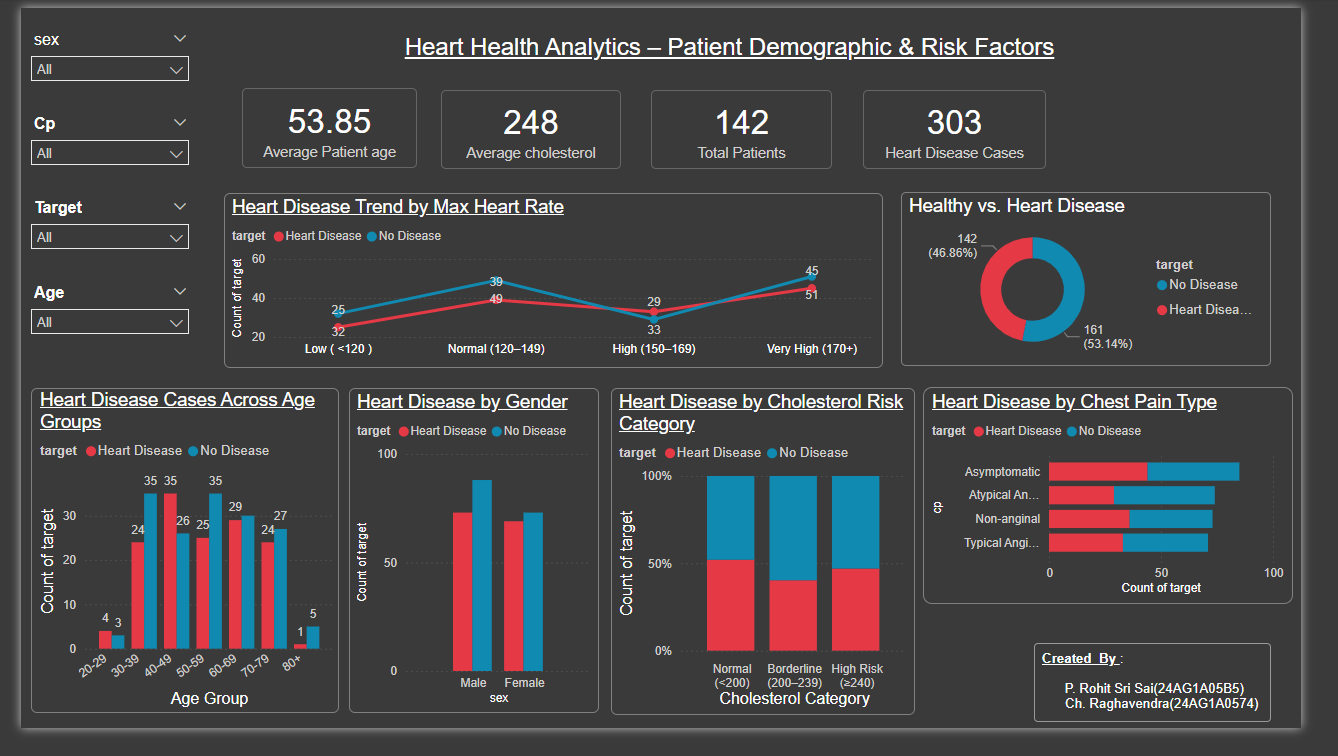

This screenshot's page, from the dashboard's own definition file:
{"tool":"powerbi","page":{"name":"Page 1","canvas":[1280,720],"ordinal":0},"visuals":[{"type":"slicer","fields":{"Values":["Sheet1.age"]},"box":[0,271.3,178.2,75.4],"z":0},{"type":"slicer","fields":{"Values":["Sheet1.target"]},"box":[0,186.2,178.2,64.7],"z":1000},{"type":"slicer","fields":{"Values":["Sheet1.cp"]},"box":[0,102,178.2,66.5],"z":2000},{"type":"card","fields":{"Values":["CountNonNull(Sheet1.age)"]},"box":[630.4,81.6,180.9,79.8],"z":3000},{"type":"donutChart","title":"Healthy vs. Heart Disease","fields":{"Category":["Sheet1.target"],"Y":["CountNonNull(Sheet1.target)"]},"box":[879.6,184.4,370.6,173.8],"z":4000},{"type":"card","fields":{"Values":["CountNonNull(Sheet1.target)"]},"box":[842.4,81.6,182.7,79.8],"z":5000},{"type":"clusteredColumnChart","title":"Heart Disease by Gender","fields":{"Category":["Sheet1.sex"],"Y":["CountNonNull(Sheet1.target)"],"Series":["Sheet1.target"]},"box":[328.1,380.4,250,324.5],"z":6000},{"type":"card","fields":{"Values":["Avg(Sheet1.age)"]},"box":[220.8,79.8,175.6,79.8],"z":7000},{"type":"barChart","title":"Heart Disease by Chest Pain Type","fields":{"Category":["Sheet1.cp"],"Y":["CountNonNull(Sheet1.target)"],"Series":["Sheet1.target"]},"box":[901.8,378.6,369.8,217.2],"z":8000},{"type":"card","fields":{"Values":["Avg(Sheet1.chol)"]},"box":[420.3,81.6,180,79.8],"z":9000},{"type":"textbox","box":[351.1,19.5,714.7,49.7],"z":10000},{"type":"clusteredColumnChart","title":"Heart Disease Cases Across Age Groups","fields":{"Category":["Sheet1.Age Group"],"Y":["CountNonNull(Sheet1.target)"],"Series":["Sheet1.target"]},"box":[9.8,380.4,308.6,324.5],"z":11000},{"type":"hundredPercentStackedColumnChart","title":"Heart Disease by Cholesterol Risk Category","fields":{"Category":["Sheet1.Cholesterol Category"],"Y":["CountNonNull(Sheet1.target)"],"Series":["Sheet1.target"]},"box":[589.7,380.4,304.1,326.3],"z":12000},{"type":"lineChart","title":"Heart Disease Trend by Max Heart Rate","fields":{"Category":["Sheet1.Thalach Group"],"Y":["CountNonNull(Sheet1.target)"],"Series":["Sheet1.target"]},"box":[203.1,185.3,658.8,174.7],"z":13000},{"type":"slicer","fields":{"Values":["Sheet1.sex"]},"box":[0,17.7,178.2,63.8],"z":14000},{"type":"textbox","box":[1012.6,634.9,237.6,78.9],"z":15000}]}

Visuals, with their boxes in screenshot pixels (x1, y1, x2, y2), scaled from the page's 1280x720 canvas onto the 1338x756 screenshot:
slicer - Sheet1.age: (0,285,186,364)
slicer - Sheet1.target: (0,196,186,263)
slicer - Sheet1.cp: (0,107,186,177)
card - CountNonNull(Sheet1.age): (659,86,848,169)
"Healthy vs. Heart Disease" donutChart: (919,194,1307,376)
card - CountNonNull(Sheet1.target): (881,86,1072,169)
"Heart Disease by Gender" clusteredColumnChart: (343,399,604,740)
card - Avg(Sheet1.age): (231,84,414,168)
"Heart Disease by Chest Pain Type" barChart: (943,398,1329,626)
card - Avg(Sheet1.chol): (439,86,628,169)
textbox: (367,20,1114,73)
"Heart Disease Cases Across Age Groups" clusteredColumnChart: (10,399,333,740)
"Heart Disease by Cholesterol Risk Category" hundredPercentStackedColumnChart: (616,399,934,742)
"Heart Disease Trend by Max Heart Rate" lineChart: (212,195,901,378)
slicer - Sheet1.sex: (0,19,186,86)
textbox: (1058,667,1307,749)
